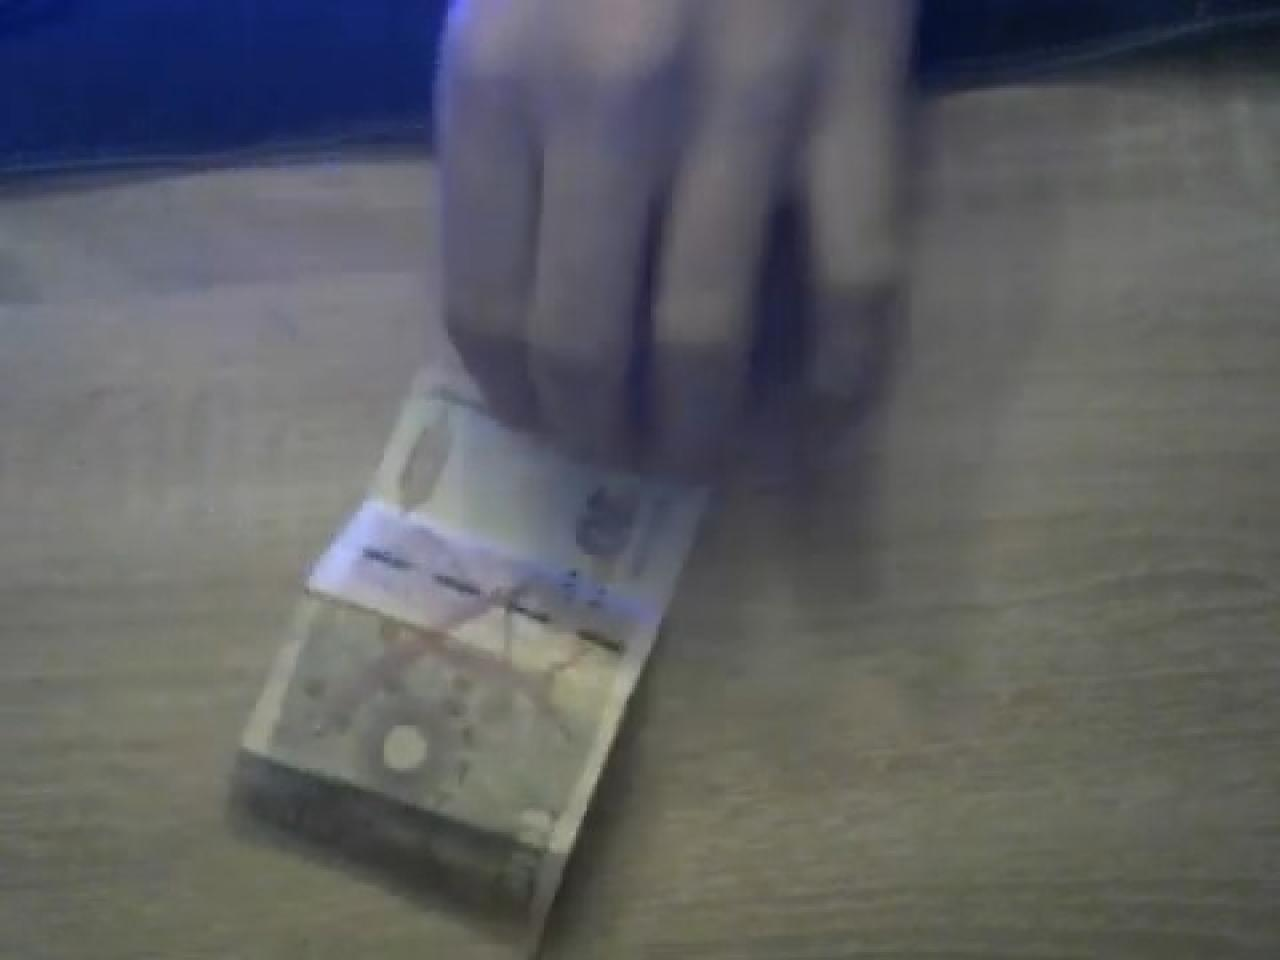10leva: (224, 368, 715, 960)
